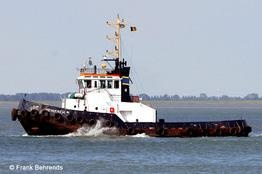otherboat: (10, 14, 253, 139)
